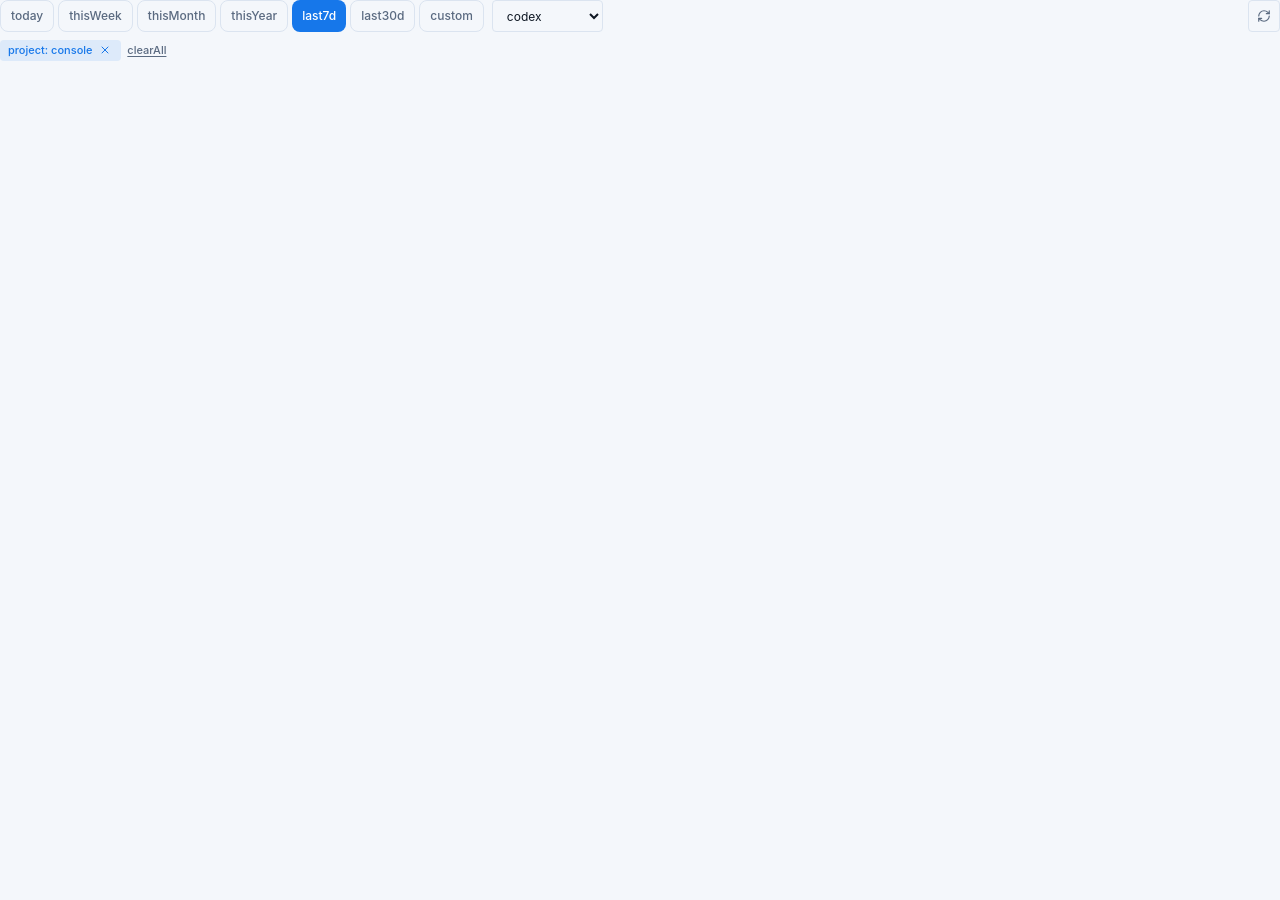
Scenario: TimeRangeSelector › reveals the range calendar only for the custom preset
Click the button "custom". click: click(452, 16)
box: [419,0,484,32]
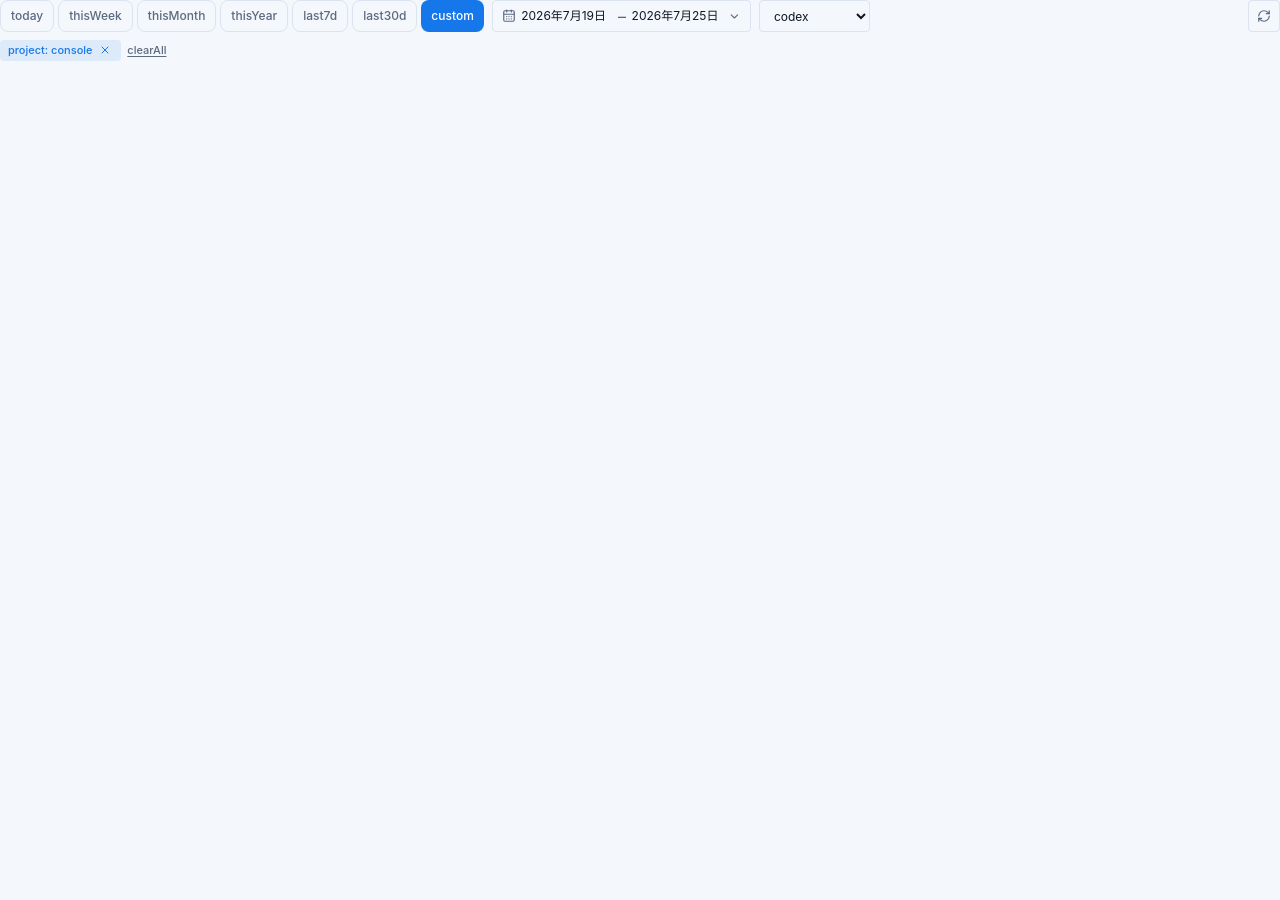
Click the button named "queryTimeRange". click: click(621, 16)
box: [492,0,751,32]
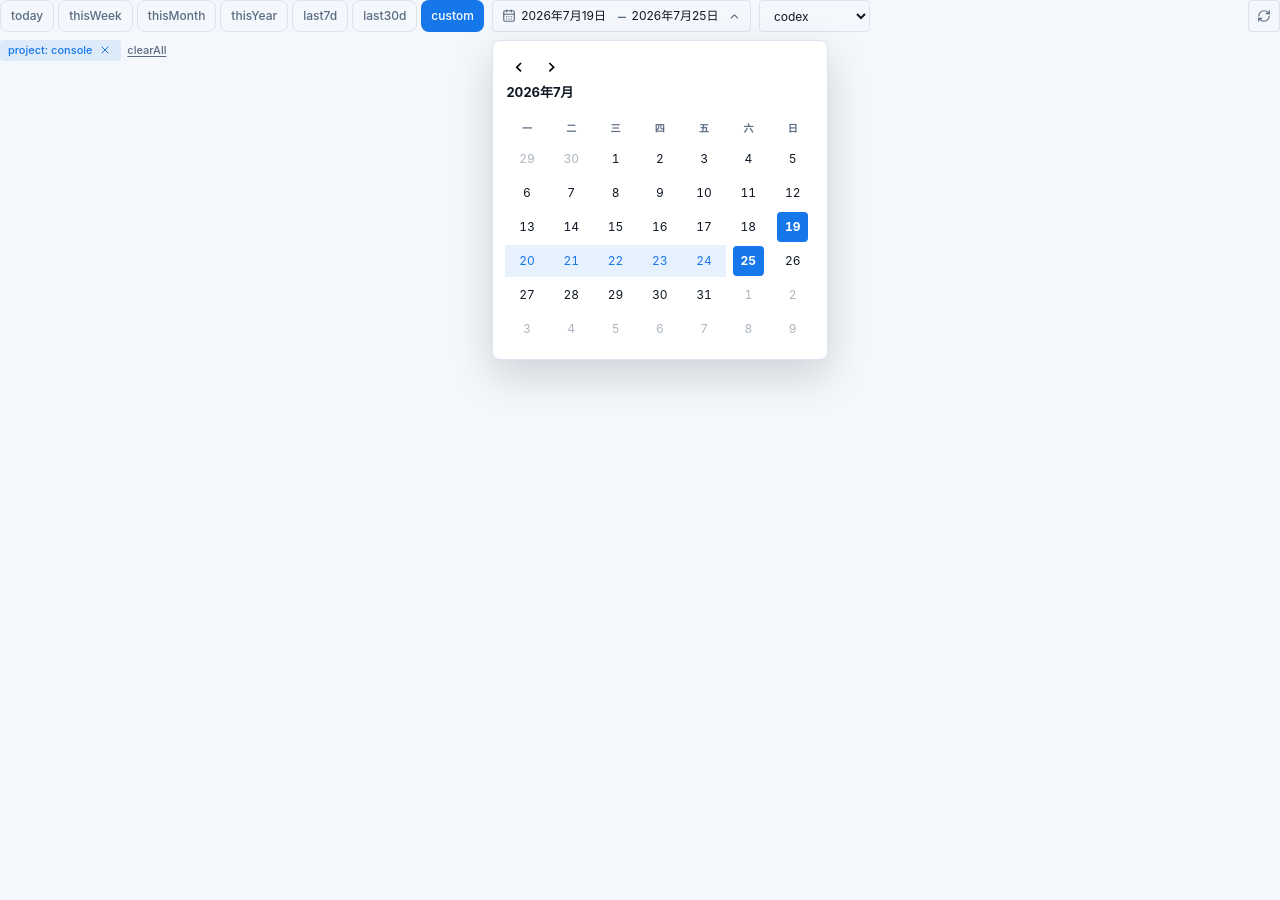
Now the dialog named "queryTimeRange" is shown, box [492,40,828,360]
Now the text "2026年7月" is shown, box [506,83,574,102]
